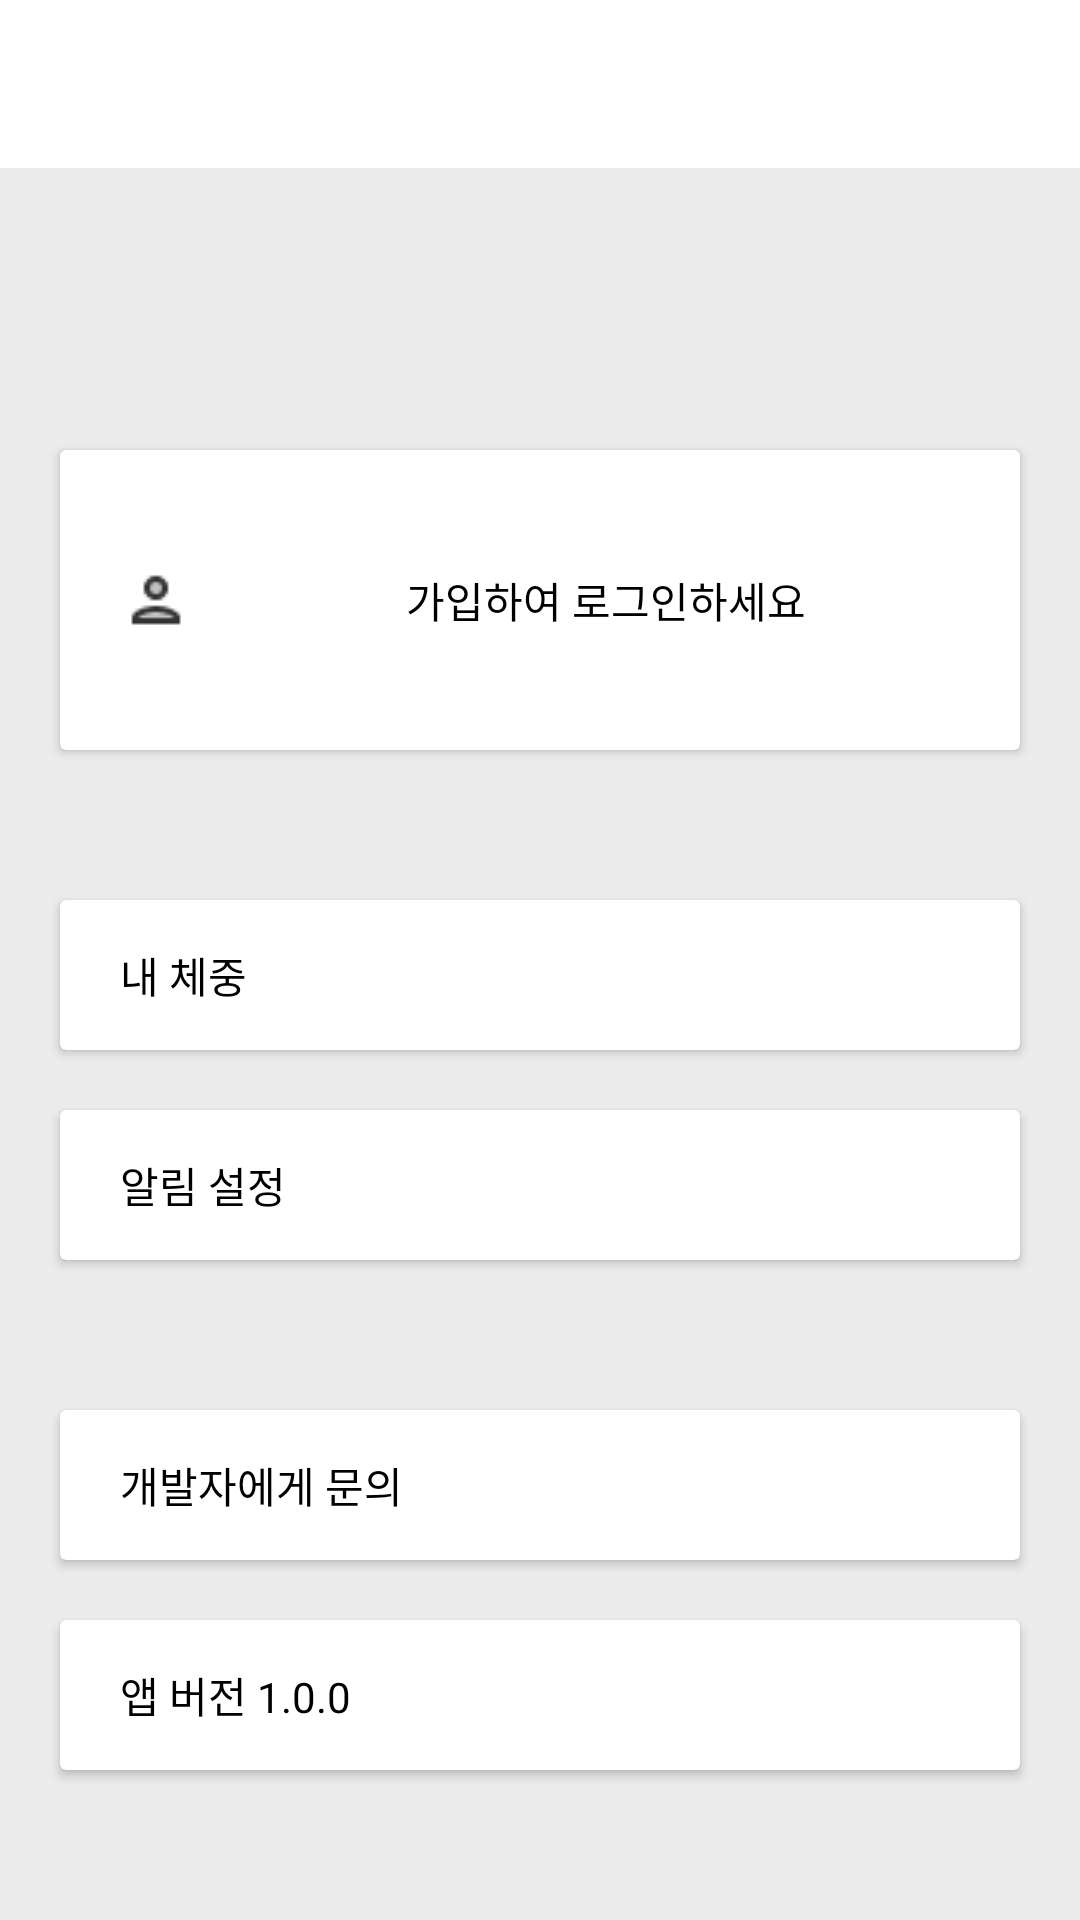

Icon bounding boxes for this 1080×1920 phone screenshot, format (x1, y1, x2, y2):
profile: (131, 575, 181, 625)
